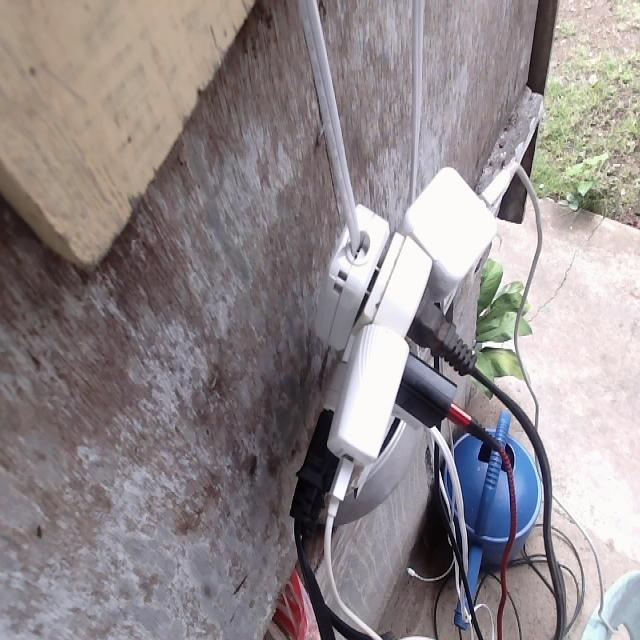-: (292, 164, 514, 529)
